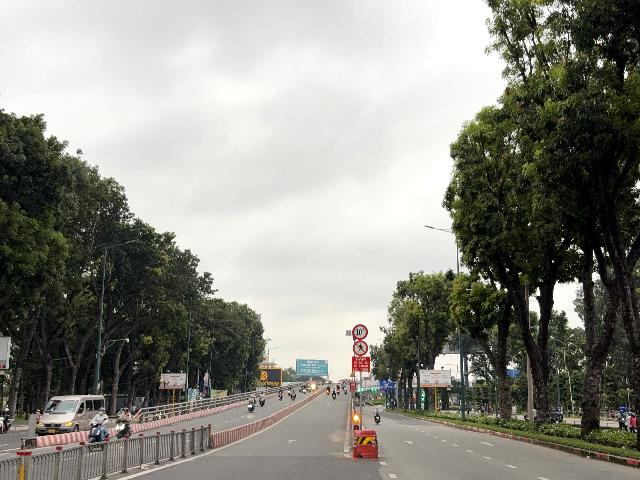cam-nguoi-di-bo: (353, 340, 368, 356)
han-che-trong-luong-xe: (352, 324, 368, 339)
